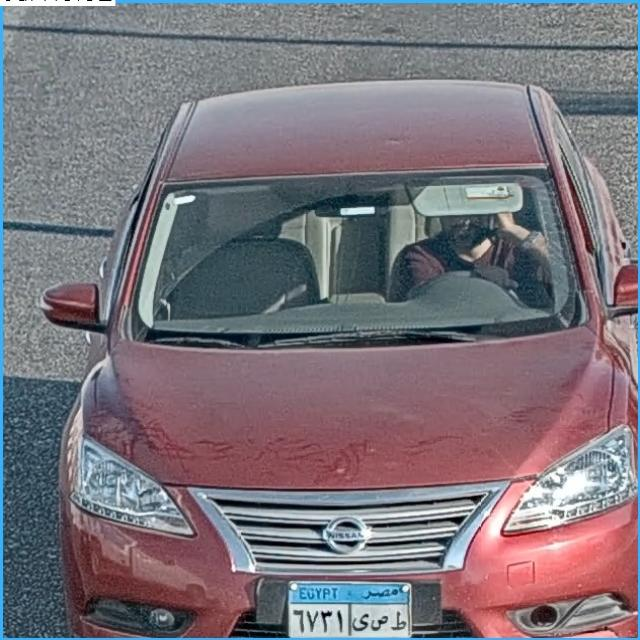windshield: (133, 171, 582, 329)
